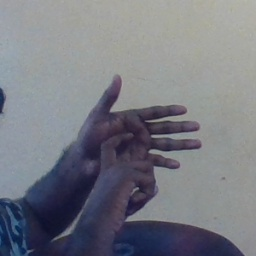R: (70, 70, 204, 209)
